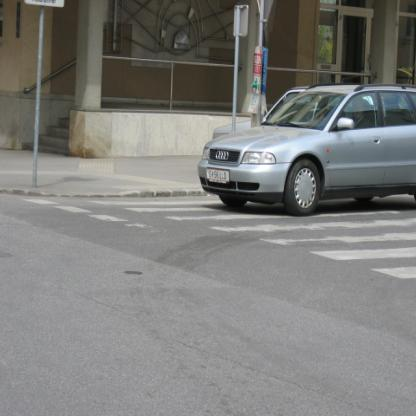car: (200, 83, 416, 217)
